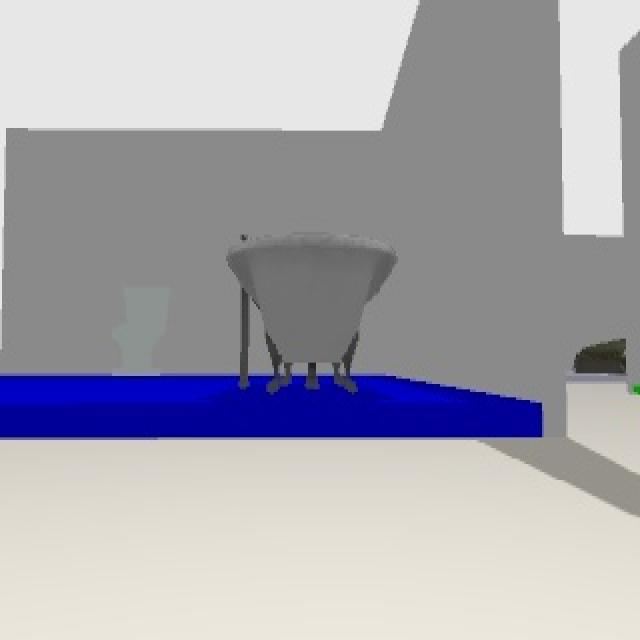bathtub: (226, 232, 400, 392)
